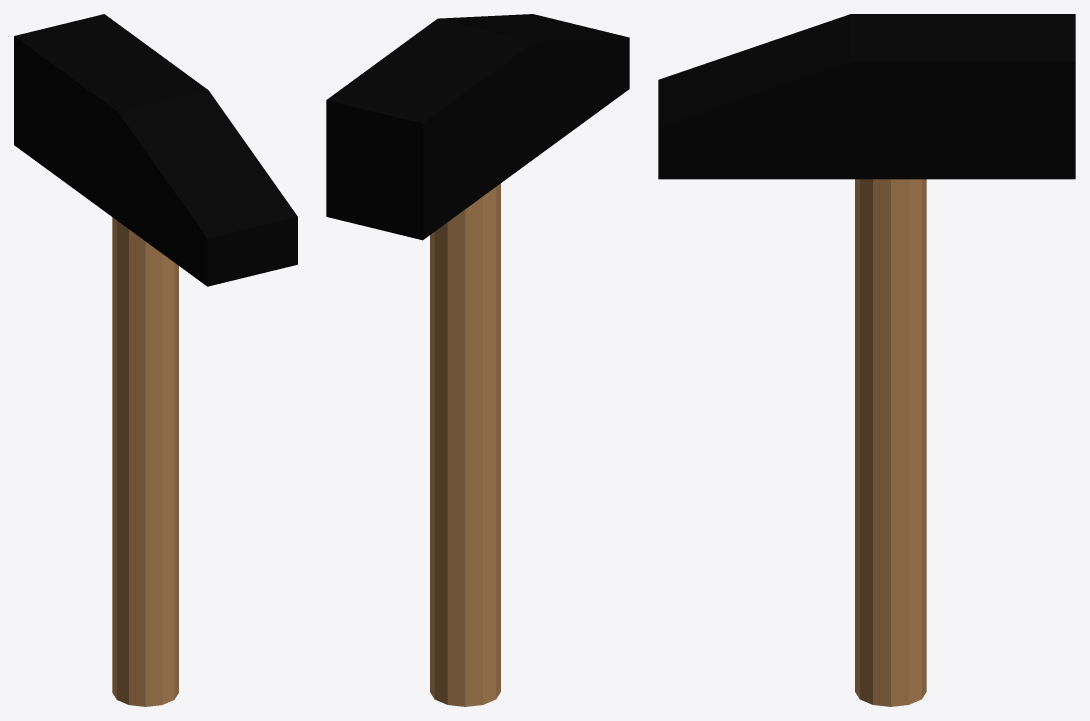
File: hammer.fbx
The picture shows the model from 3 angles, left to right: view 1: azimuth 30°, elevation 25°; view 2: azimuth 150°, elevation 25°; view 3: azimuth 270°, elevation 25°; orthographic projection. The views are drawn at different scales.
Visible parts, largest first — view 1: Hammer; view 2: Hammer; view 3: Hammer.
Part boxes in pixels (x1,y1,x2,y2): Hammer: (14, 14, 297, 706); Hammer: (326, 14, 629, 706); Hammer: (658, 14, 1075, 706).
Size of the model in its own units: 4.33 by 27.77 by 16.07.
1 material, 1 textured.
